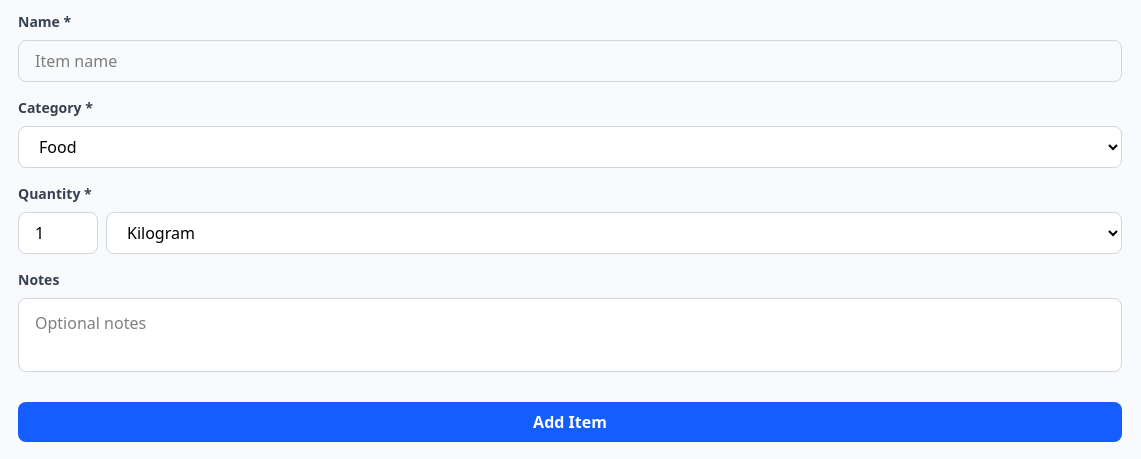
ItemForm › Equipment category behavior › forces unit to pcs and disables unit selector when category is equipment
The image size is (1141, 459).
Select "Equipment" in the dropdown below "Category *" at (570, 147), box [18,126,1122,168]
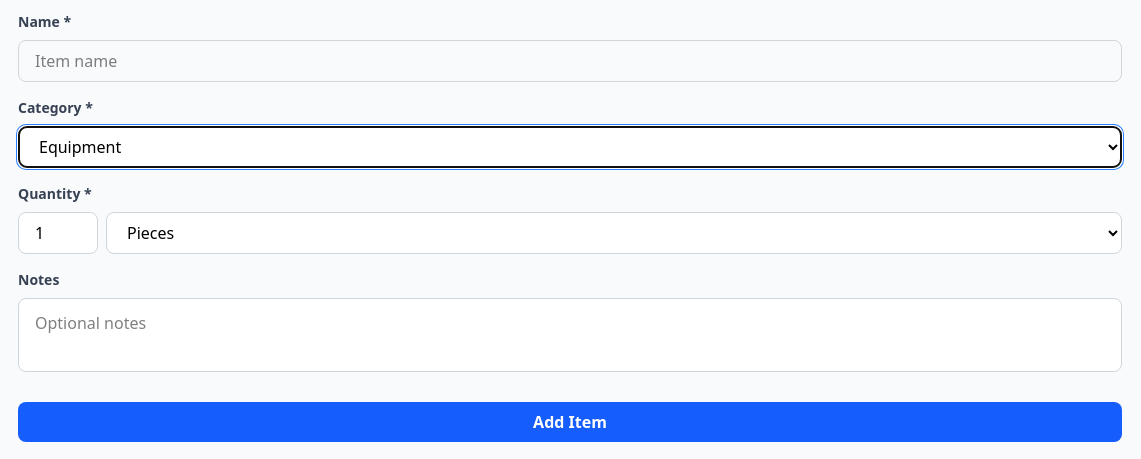
Expected: the dropdown named "unit" below "Quantity *" is disabled, [106,212,1122,254]
Expected: the dropdown named "unit" below "Quantity *" shows "Pieces", [106,212,1122,254]
